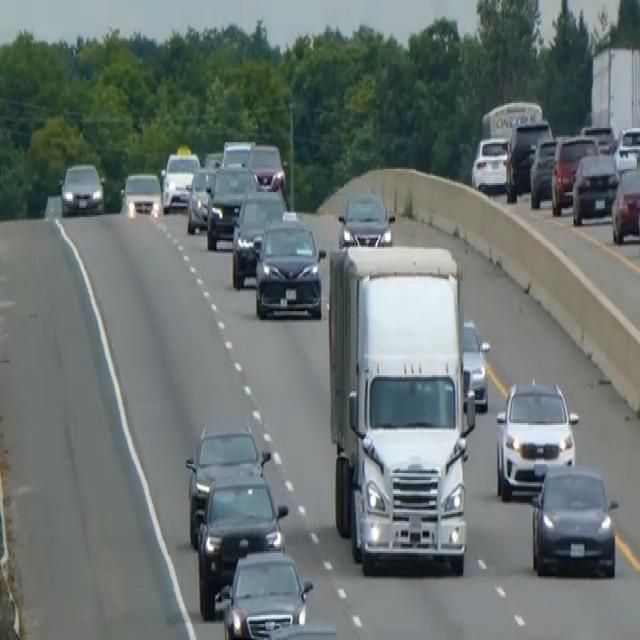car: (195, 468, 289, 618), (184, 420, 269, 546), (494, 375, 578, 501), (529, 460, 618, 578), (215, 546, 313, 638), (253, 213, 324, 320), (230, 185, 285, 288), (205, 160, 258, 249), (504, 115, 552, 201), (550, 132, 598, 214), (570, 149, 619, 226), (337, 190, 395, 247), (461, 316, 490, 411), (160, 150, 200, 212), (59, 160, 104, 215), (470, 133, 509, 192), (611, 164, 639, 244), (186, 162, 216, 233), (529, 135, 558, 208), (246, 140, 285, 194), (122, 169, 161, 220), (253, 620, 342, 638), (613, 123, 639, 174), (580, 122, 615, 154), (221, 137, 253, 167), (203, 149, 222, 171)
lorry: (325, 240, 476, 576)
